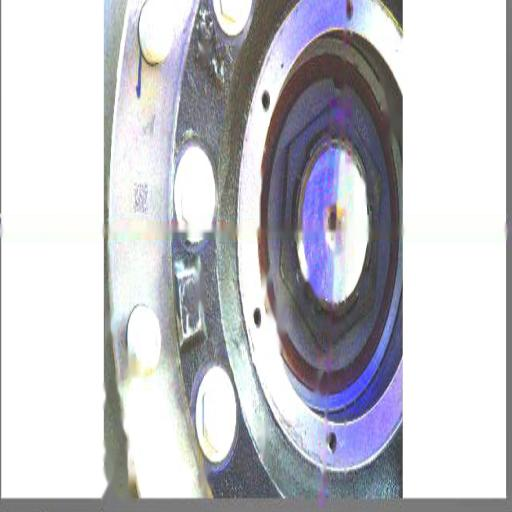center: (326, 198, 344, 243)
notch: (330, 70, 347, 101)
